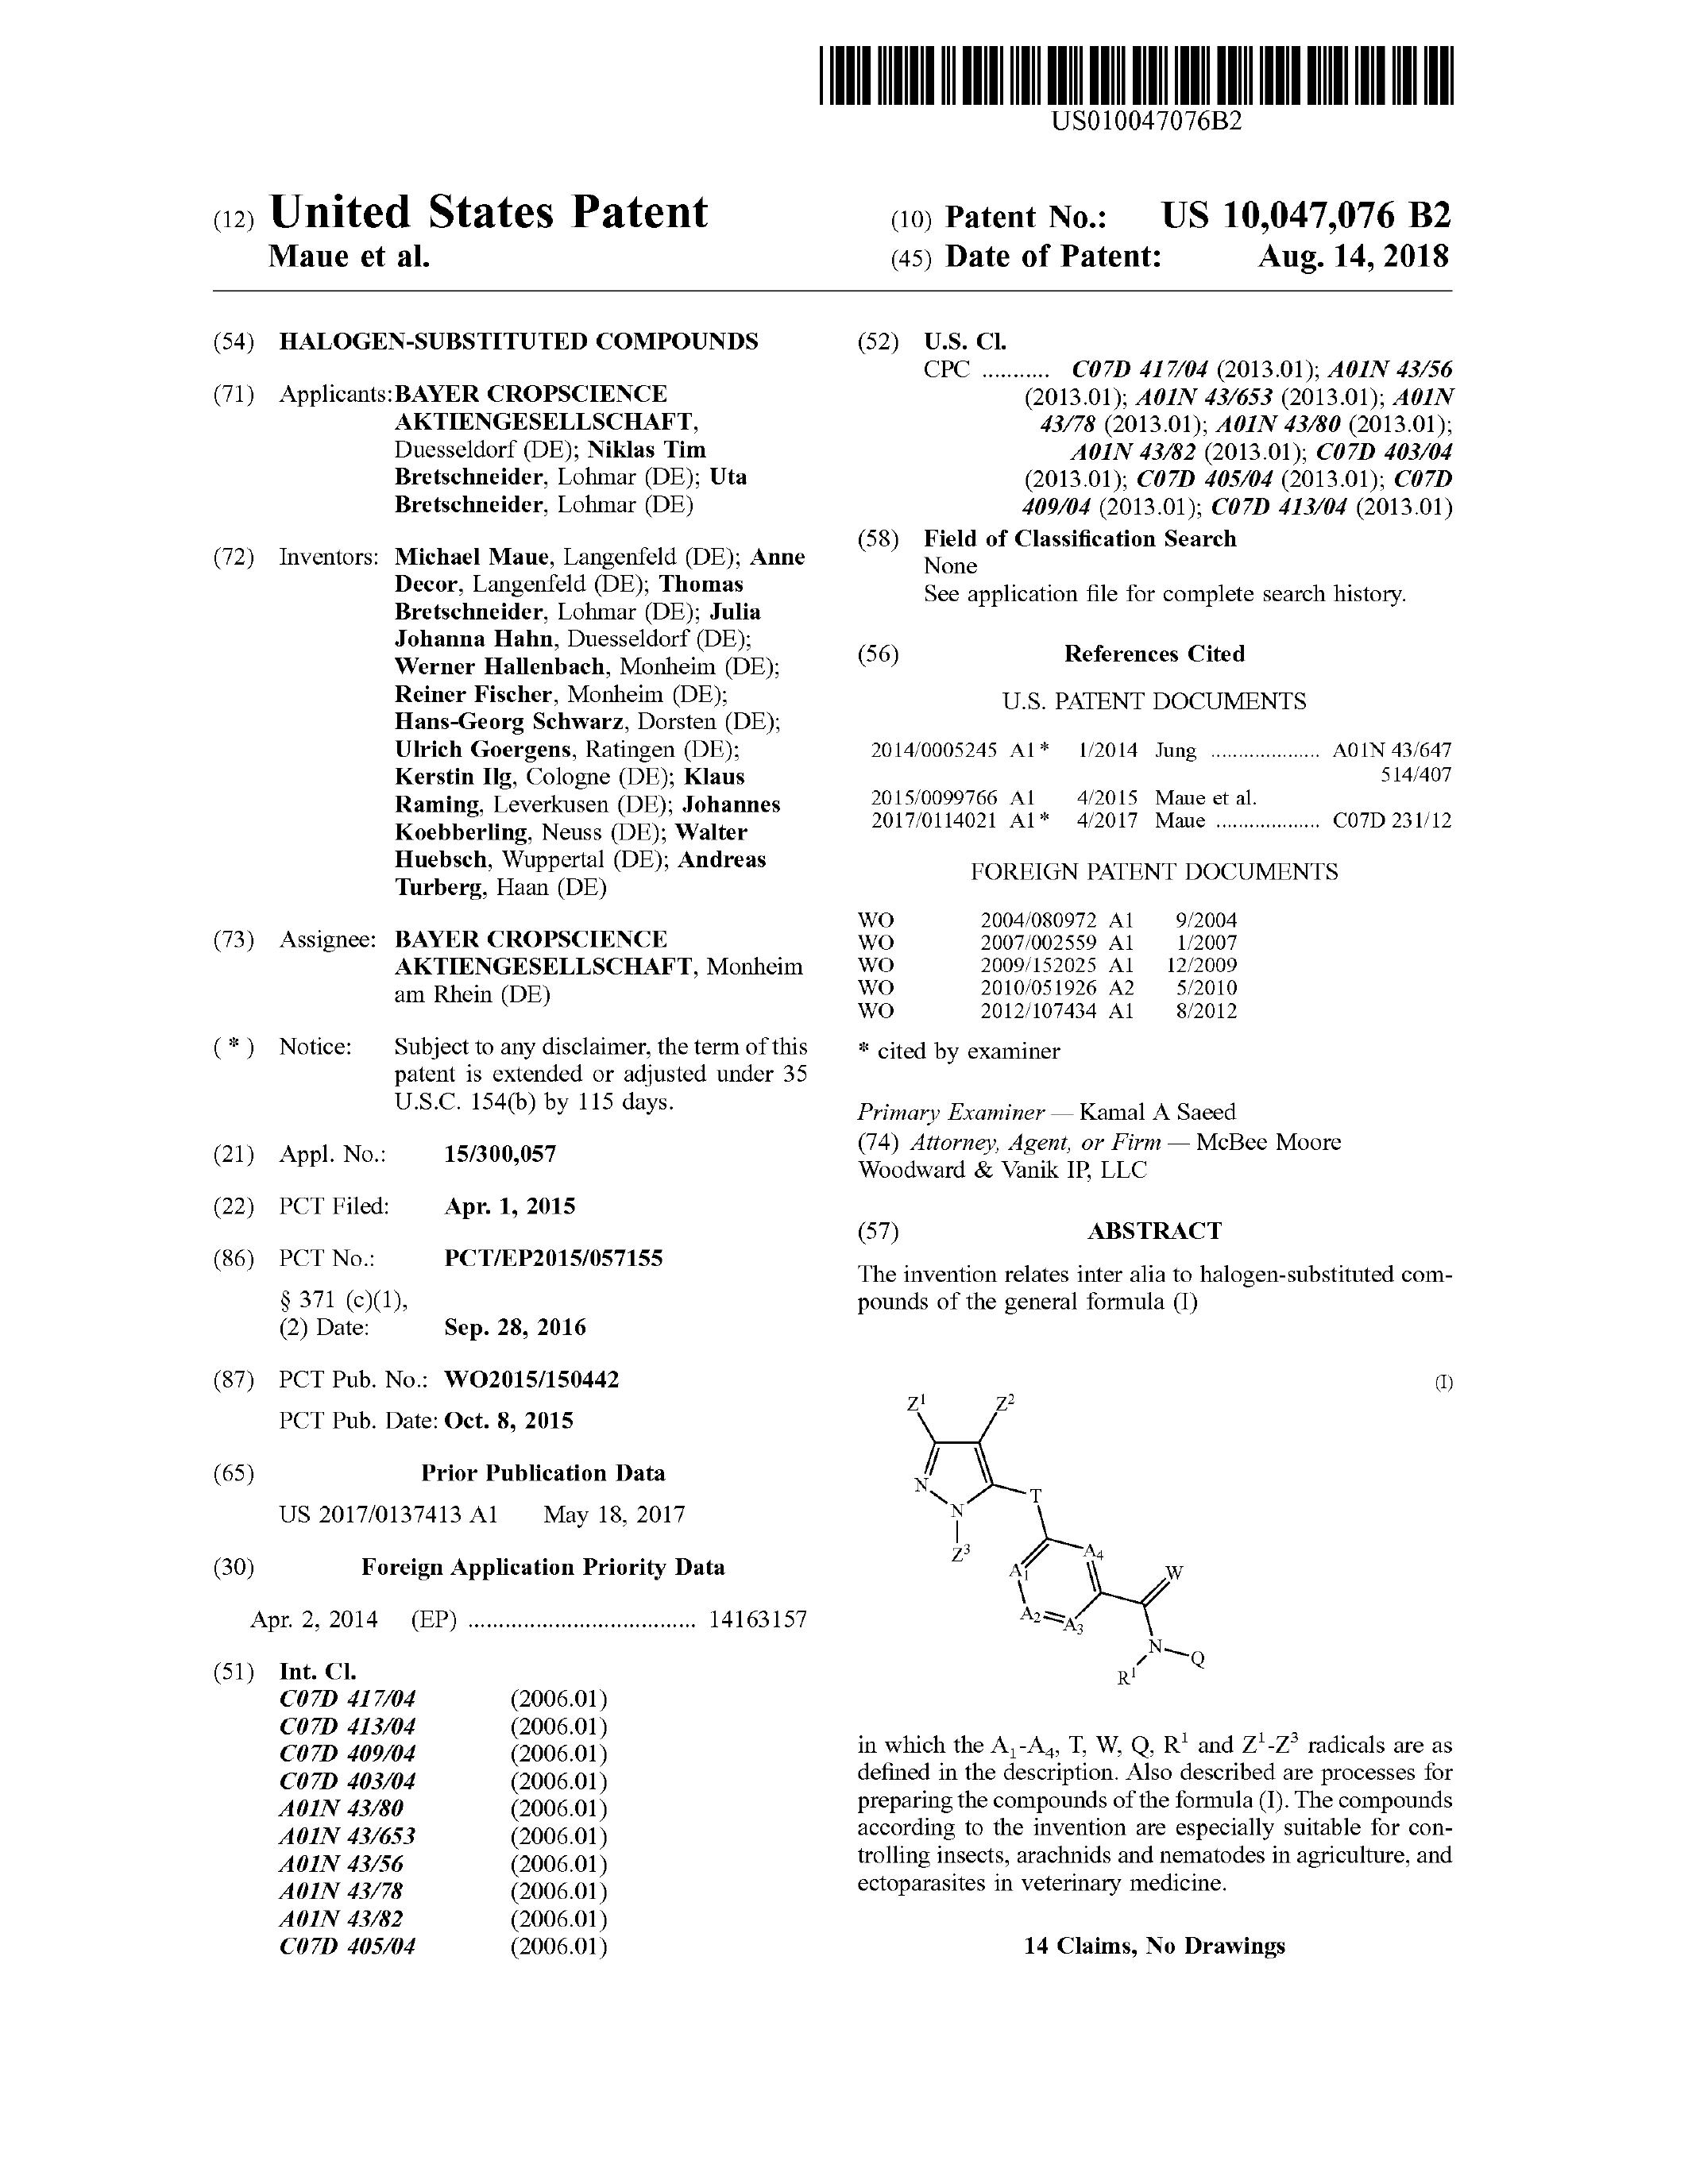markush-structures: (824, 1347, 1314, 1691)
